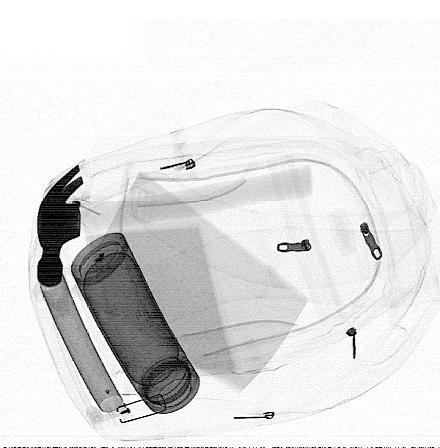Hammer: (37, 165, 313, 289)
